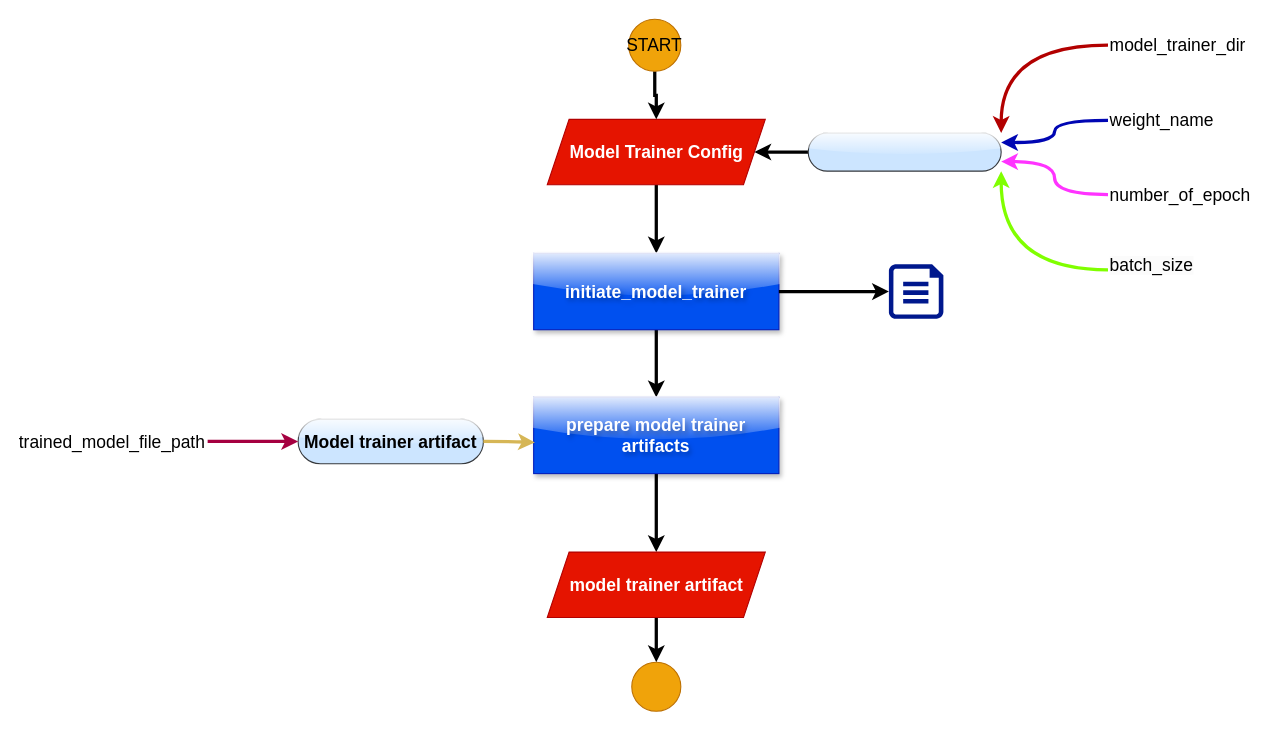
The diagram is 1270 pixels wide and 730 high, and some of its shapes have lost their labels. The shapes that lost their labels are listed below. From the top down, each one's centre as x and y in pixels, then its label:
At [904,151]: "Data Validation Config".
At [915,291]: "best.pt".
At [656,686]: "END".
